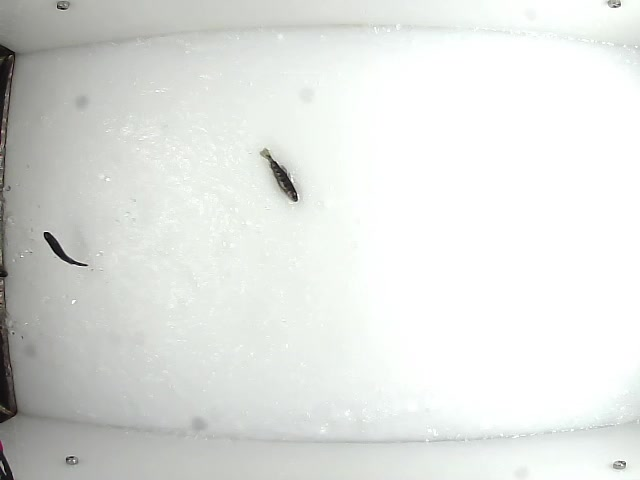fish: (257, 146, 302, 204), (41, 231, 91, 272)
